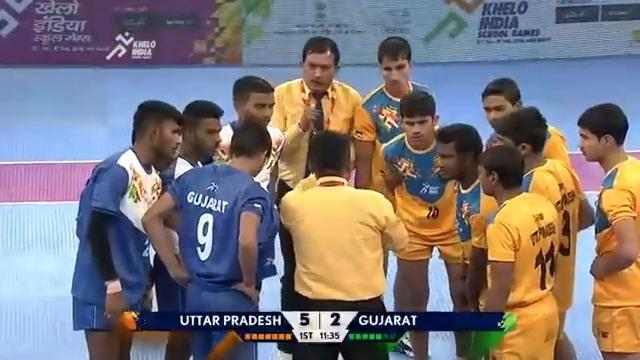Player: (141, 102, 272, 358), (70, 99, 185, 359), (493, 105, 595, 358), (379, 90, 472, 358), (471, 143, 562, 359), (269, 35, 377, 203), (575, 102, 639, 359), (359, 35, 436, 193), (480, 76, 570, 167)
referee: (277, 129, 409, 358), (275, 46, 359, 172)
